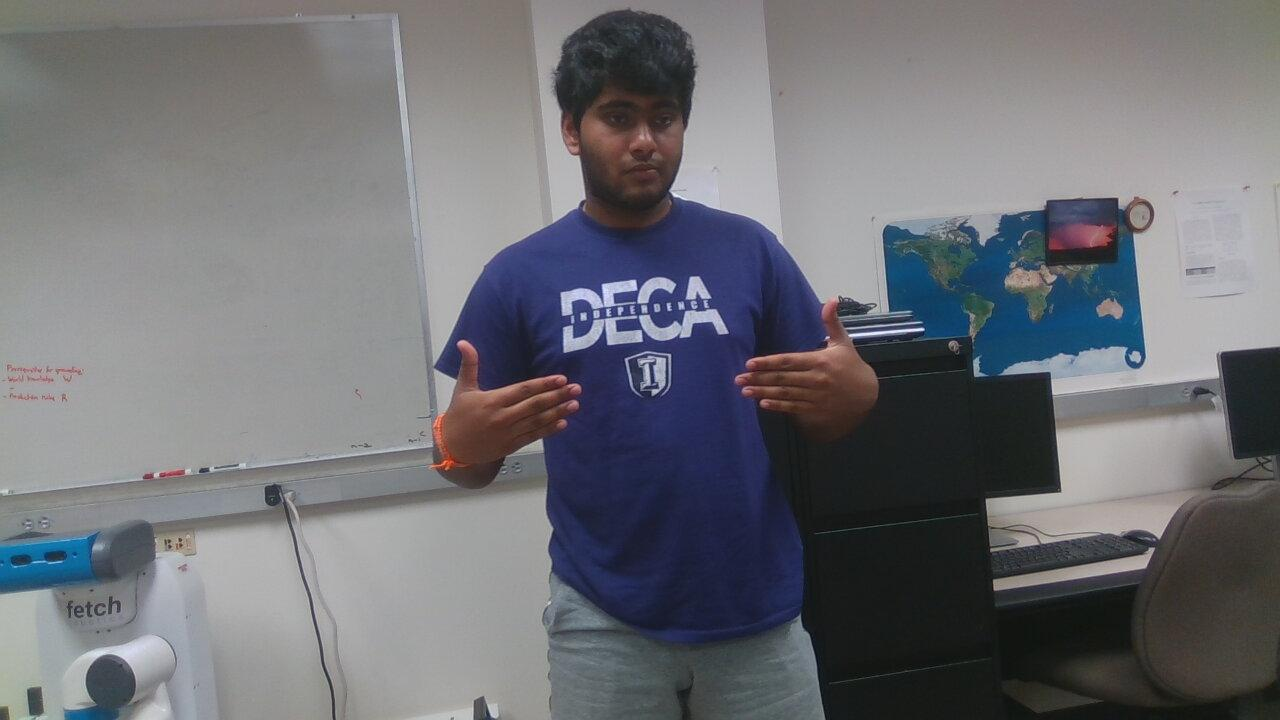hands: (726, 297, 904, 446), (436, 327, 587, 475)
